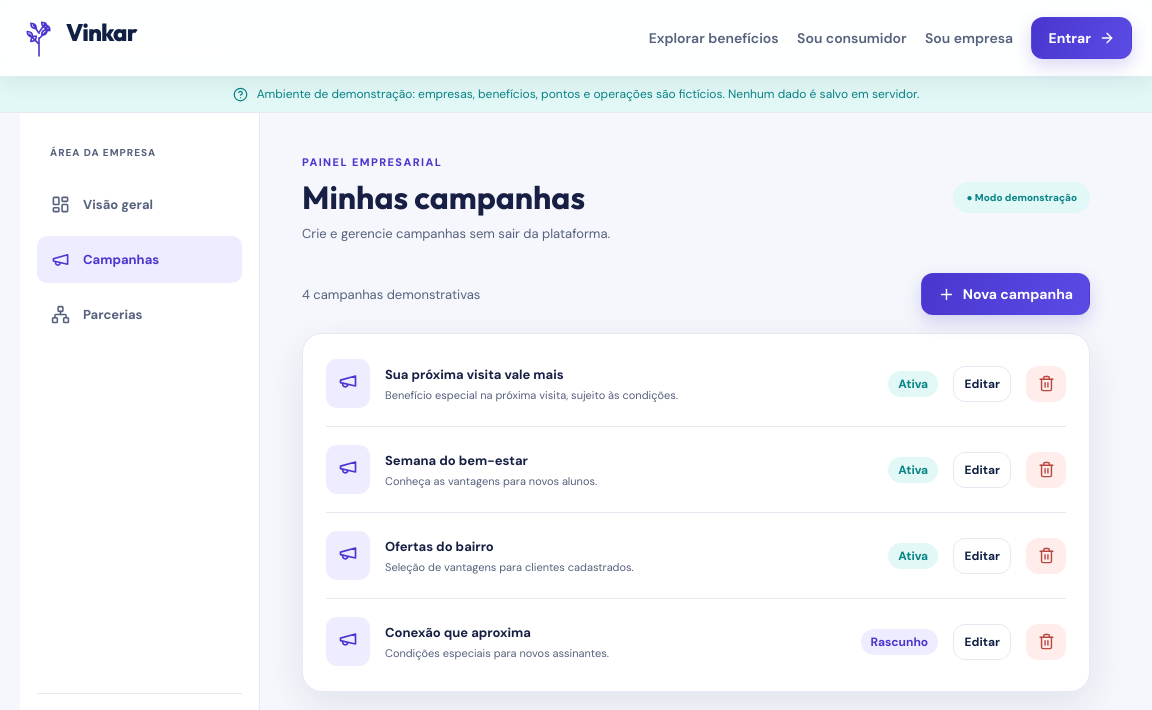
it: isolamento e navegação da demonstração › preserva a criação de campanhas em memória e sinaliza a lista vazia
Click the button "Nova campanha" at (1005,294), box x1=921 y1=273 x2=1090 y2=315
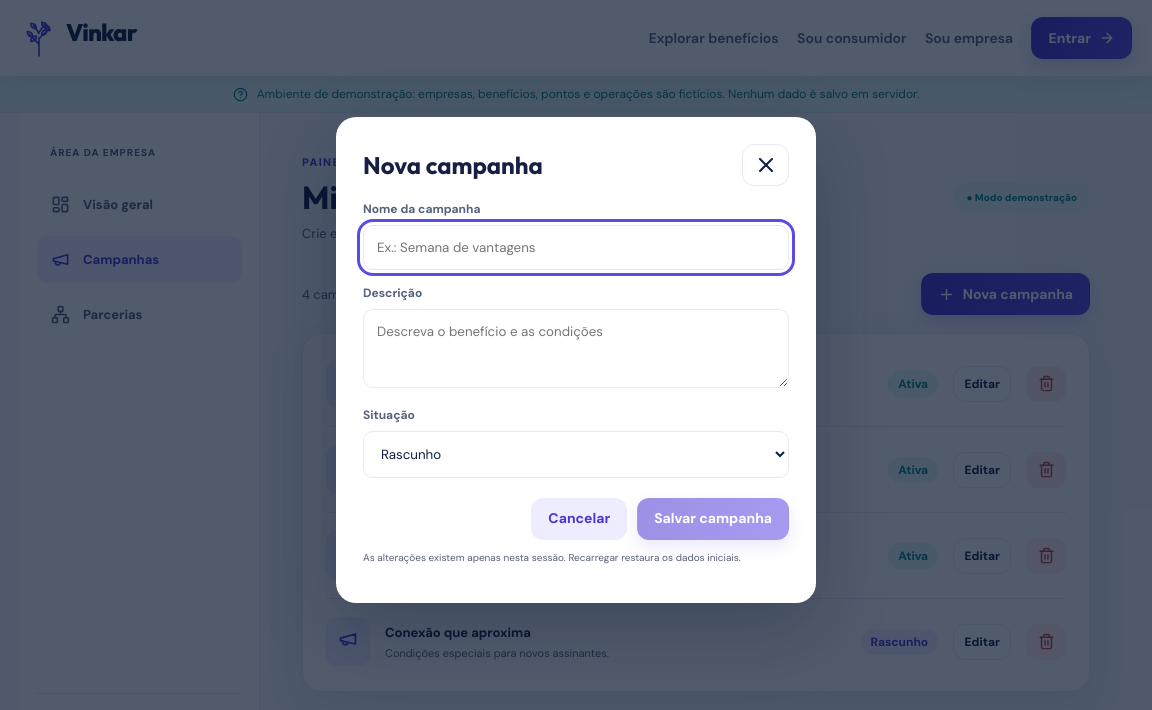
Type "Campanha de teste" into the field labelled "Nome da campanha" at (576,247), box x1=363 y1=225 x2=789 y2=270
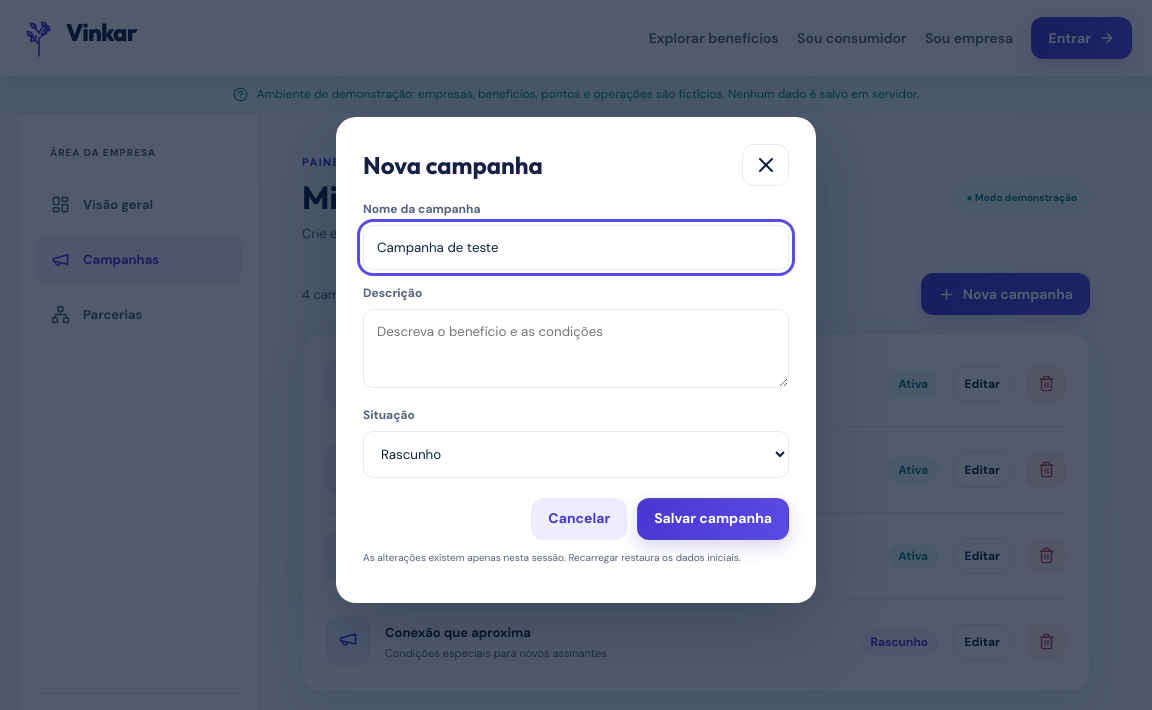
Click the button "Salvar campanha" at (713,519), box x1=637 y1=498 x2=789 y2=540
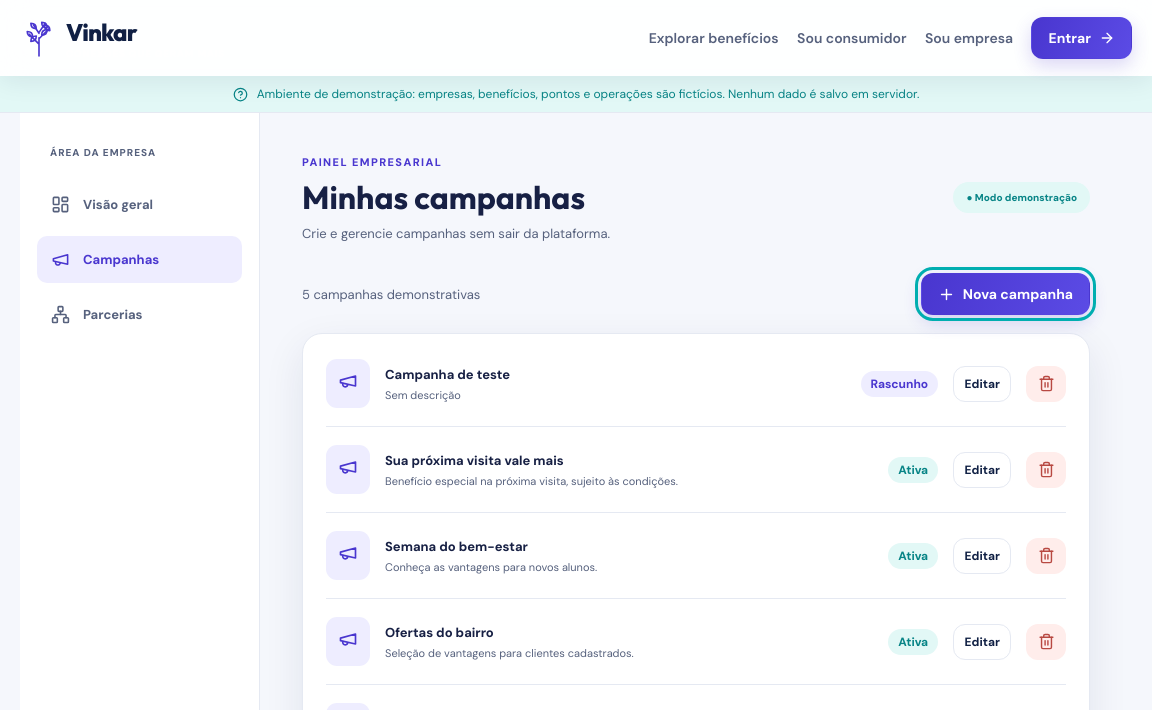
Now the text "5 campanhas demonstrativas" is shown, box x1=302 y1=286 x2=480 y2=303
Now the text "Campanha de teste" is shown, box x1=385 y1=366 x2=510 y2=383
Click the button named "Excluir Campanha de teste" at (1046,384), box x1=1026 y1=366 x2=1066 y2=402
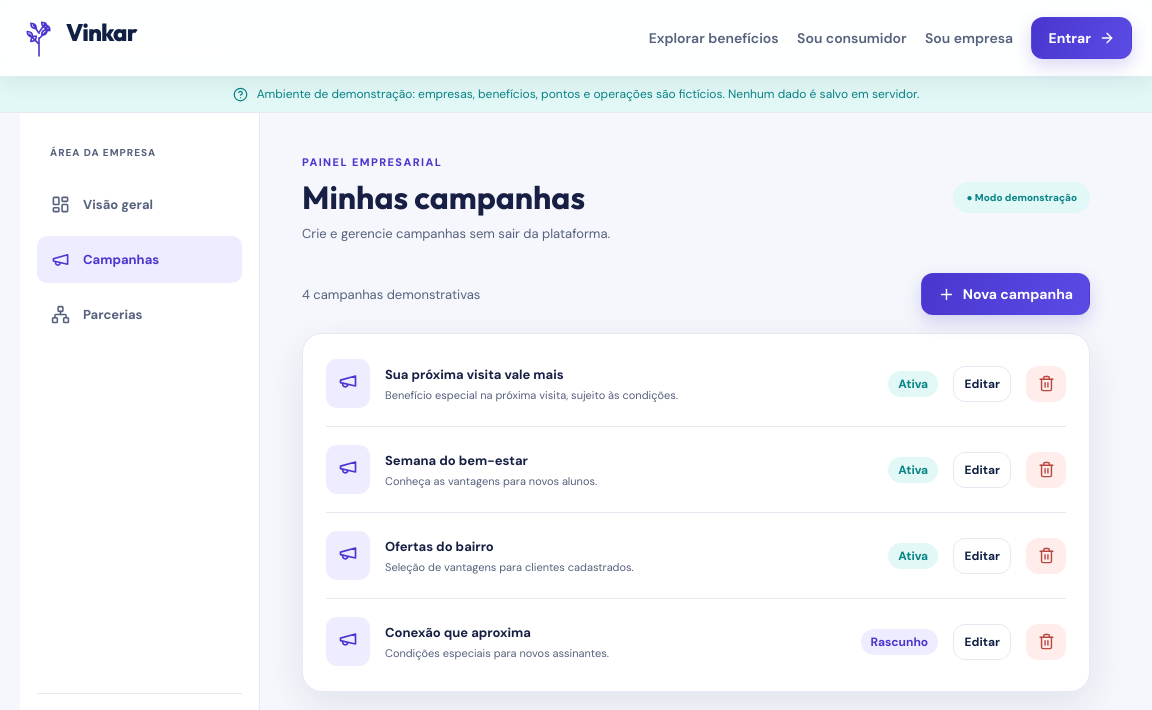
Now the text "4 campanhas demonstrativas" is shown, box x1=302 y1=286 x2=480 y2=303
Now the text "Campanha de teste" is gone
